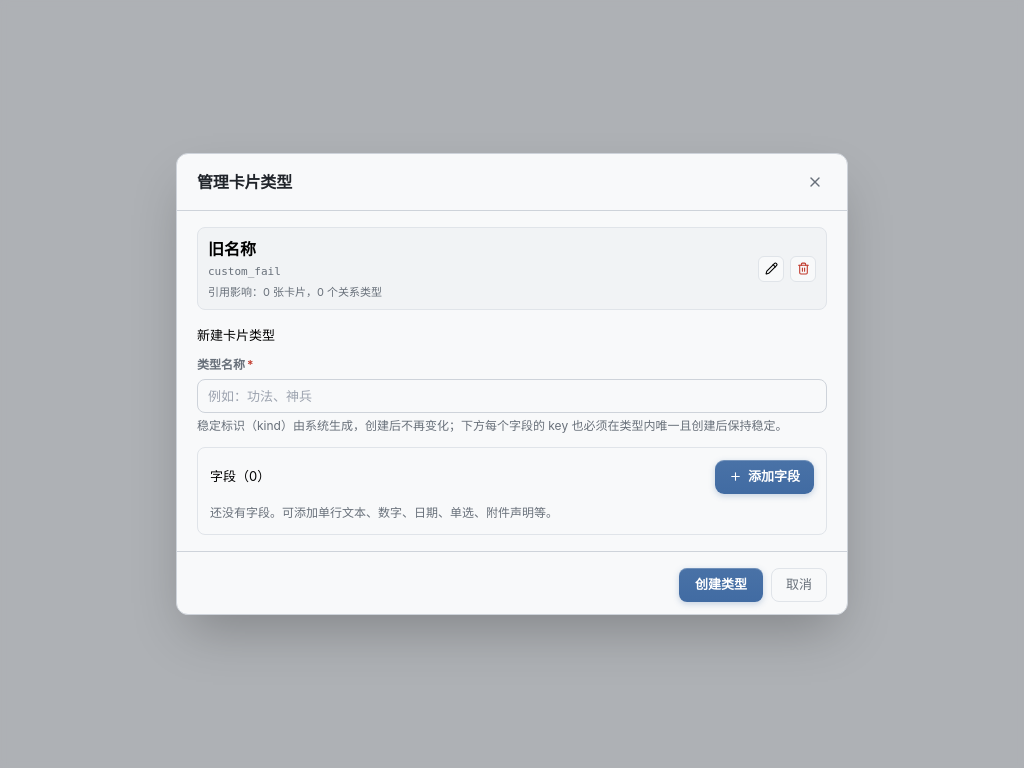
Test: CardTypeEditor 自定义卡片类型 › 更新失败时保留编辑内容与错误提示
The width and height of the screenshot is (1024, 768).
Click the button named "编辑旧名称". click: x=771, y=269
box: 758,256 -> 784,282
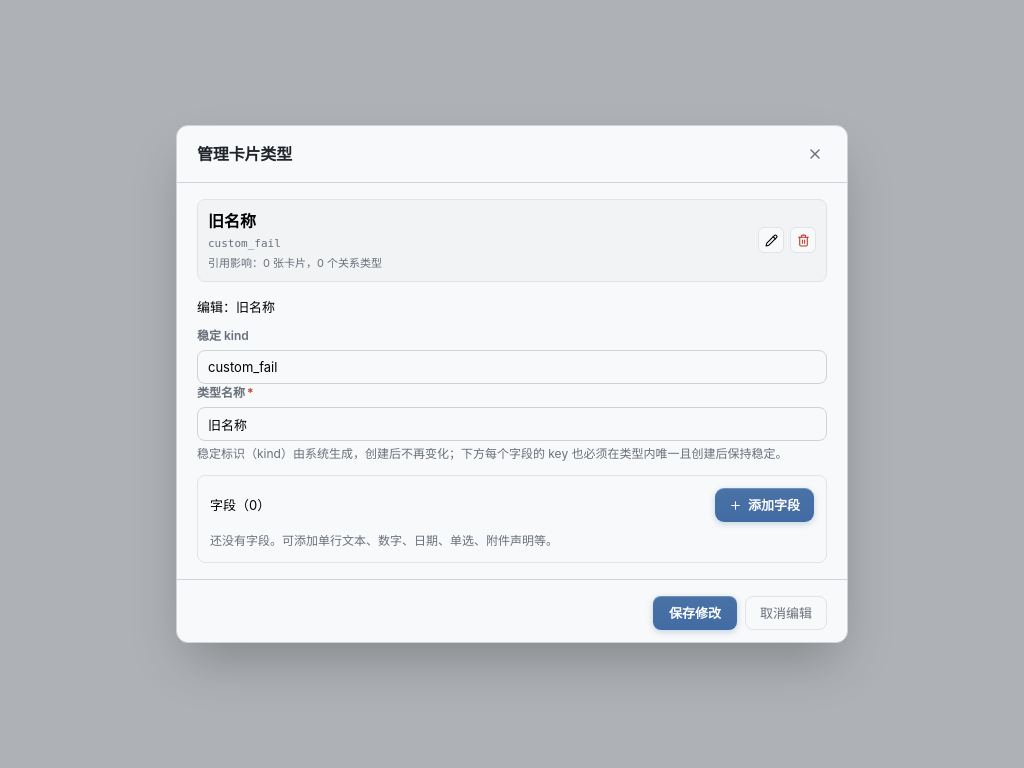
Replace the text in the field showing "旧名称" below "类型名称" with "未保存名称". click: x=512, y=424
box: 197,407 -> 827,441
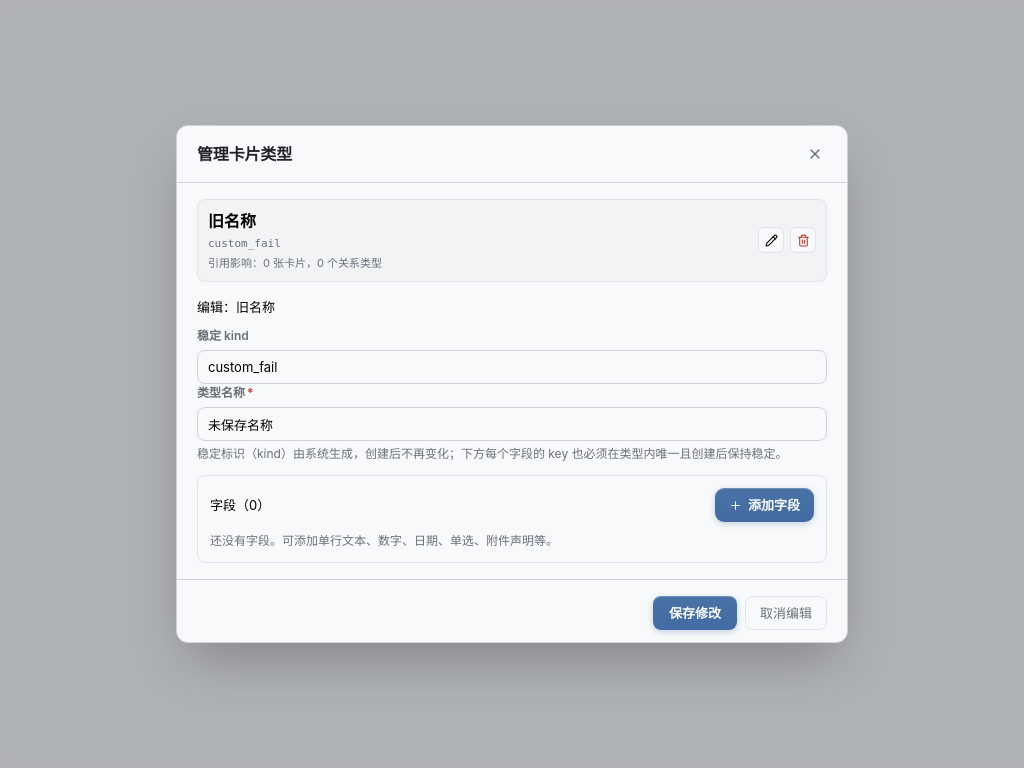
Click the button "保存修改". click: x=695, y=613
box: 653,596 -> 737,630
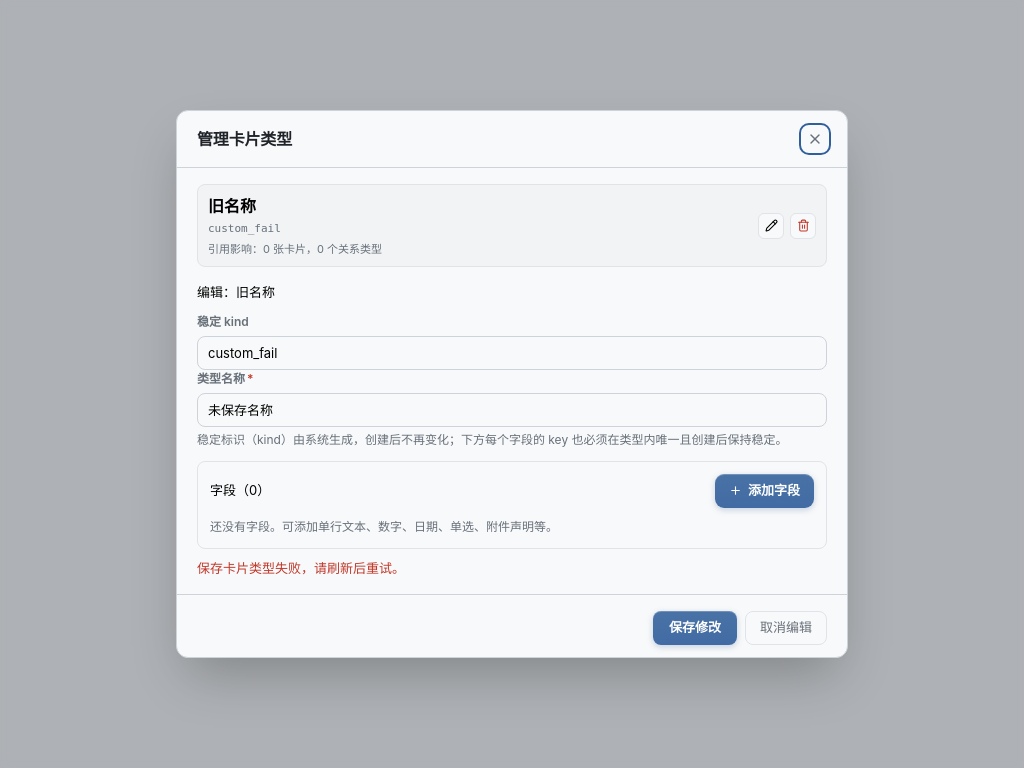
Expected: the button "保存修改" is shown, 653,611 -> 737,645
Expected: the message shows "保存卡片类型失败", 197,560 -> 405,576
